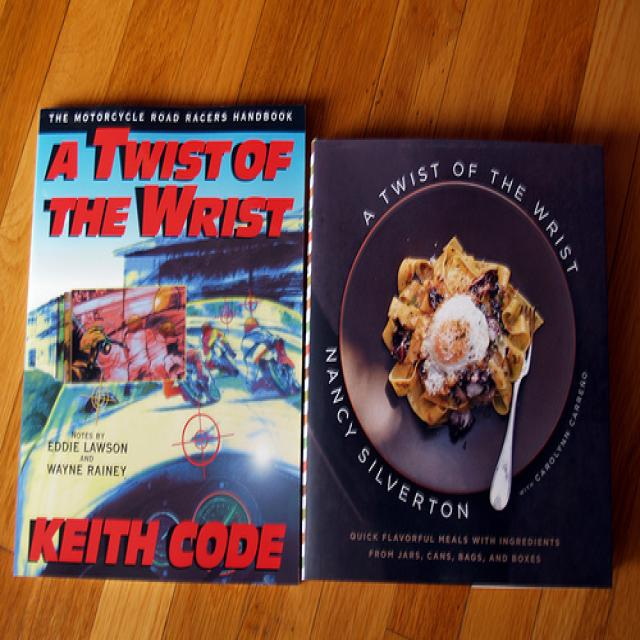motor: (163, 353, 223, 407), (199, 321, 242, 377), (258, 337, 295, 399)
